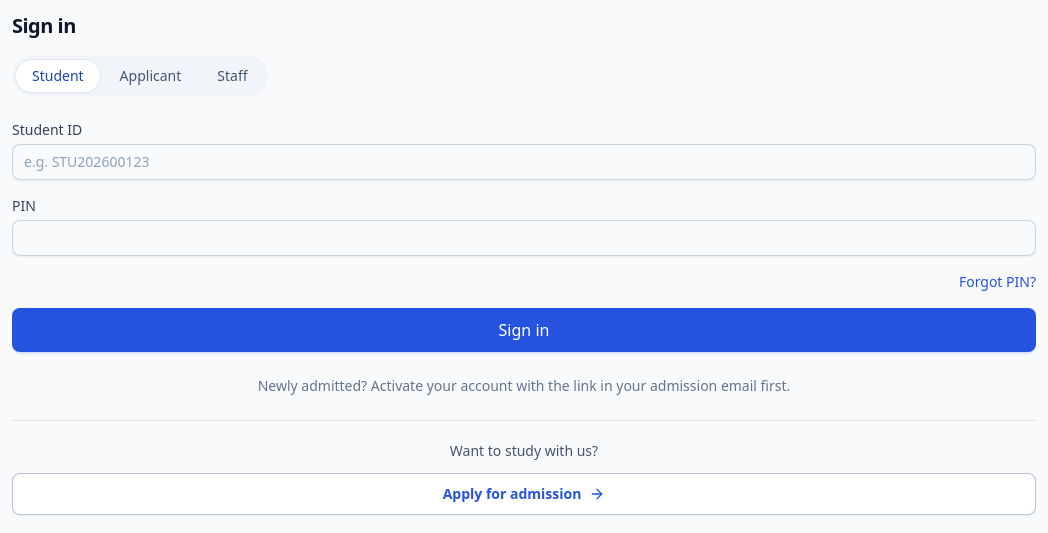
Login footer › shows it to applicants too, but not to staff
The width and height of the screenshot is (1048, 533).
Click the tab "Applicant".
click(150, 76)  # box [104, 60, 197, 92]
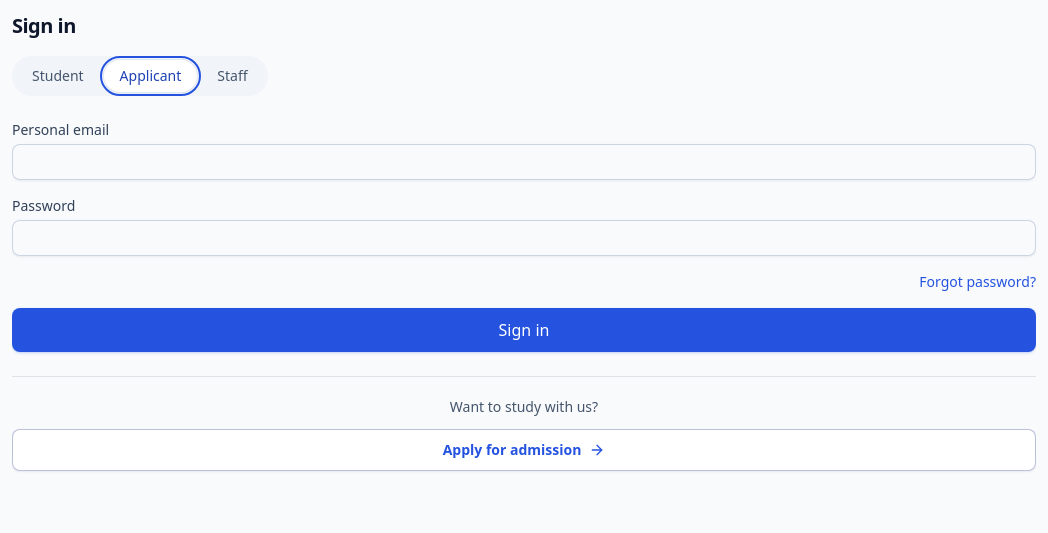
Click the tab "Staff".
click(232, 76)  # box [201, 60, 264, 92]
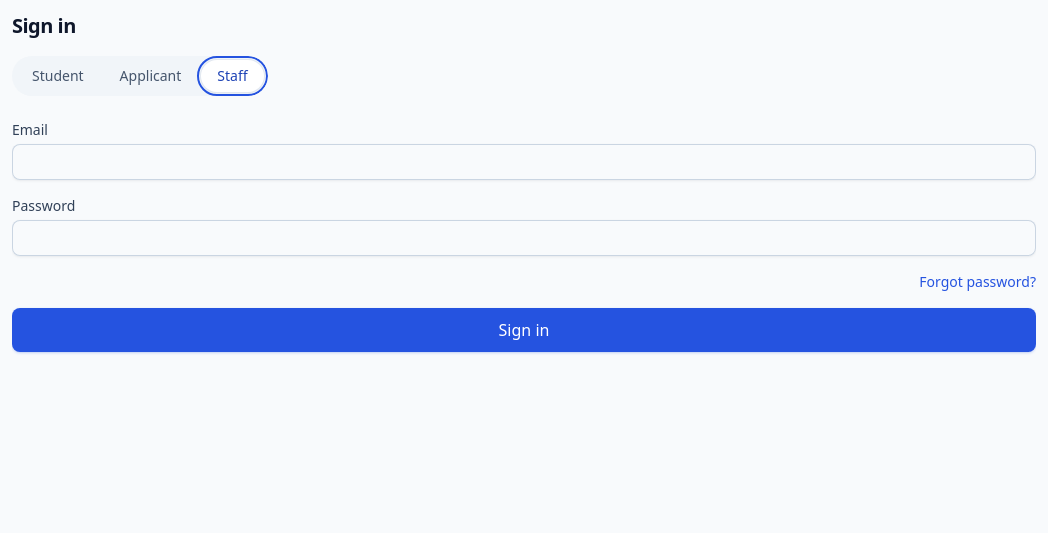
Expected: no links "Apply for admission" are shown
Expected: the text "Want to study with us?" is gone
